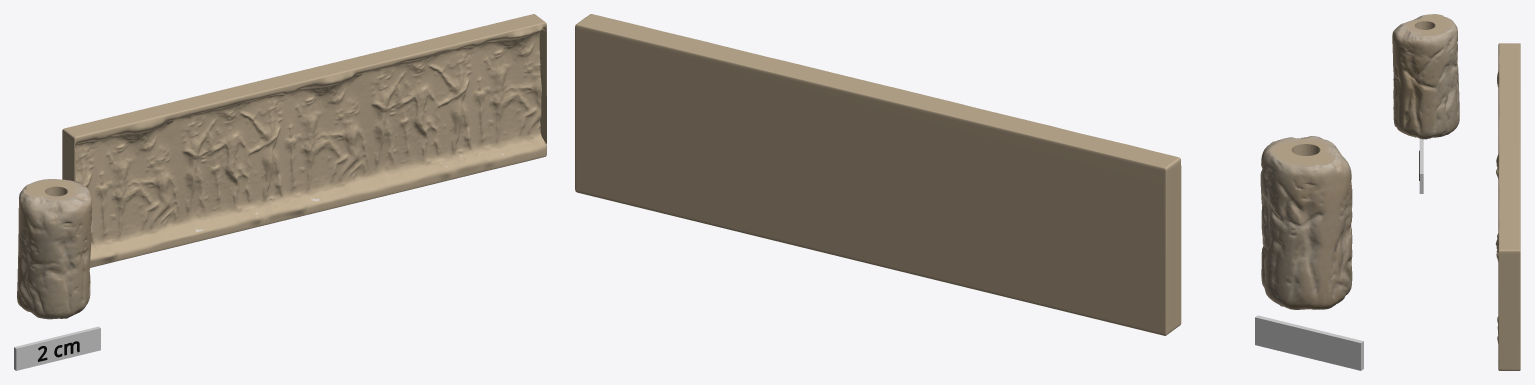
The model's file is preview.glb.
3 views of the same model, side by side, from view 1: azimuth 30°, elevation 25°; view 2: azimuth 150°, elevation 25°; view 3: azimuth 270°, elevation 25° (orthographic). The views are drawn at different scales.
Parts seen in each view (by area): view 1: Object_3; view 2: Object_3; view 3: Object_3.
Boxes of the visible parts, x1,y1,x2,y2 form: Object_3: (14,14,546,370); Object_3: (575,14,1363,370); Object_3: (1392,14,1520,370).
Size of the model in its own units: 136 by 39.79 by 29.19.
